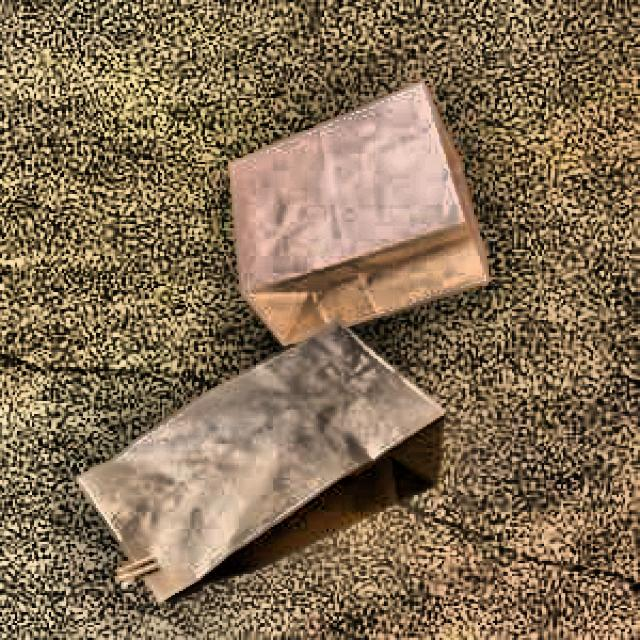Paper-bag: (74, 322, 455, 612), (220, 73, 494, 350)
